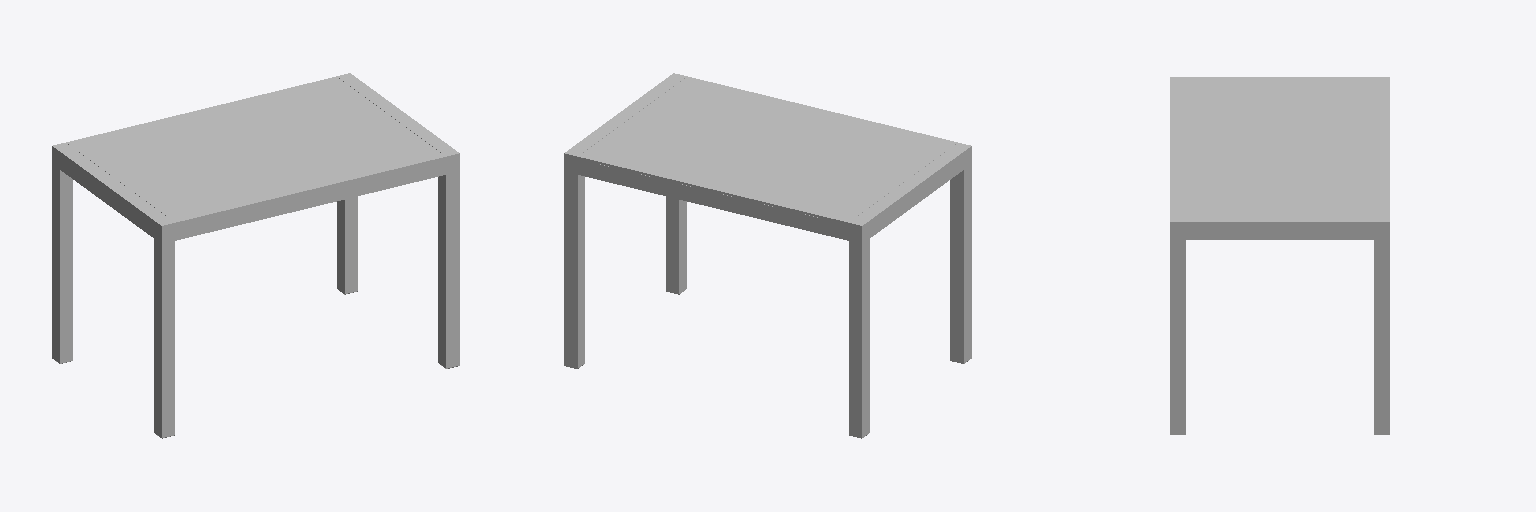
File: white_kitchen_table_alone.obj
The picture shows the model from 3 angles: view 1: azimuth 30°, elevation 25°; view 2: azimuth 150°, elevation 25°; view 3: azimuth 270°, elevation 25°; orthographic projection.
Parts seen in each view (by area): view 1: glass_table.001_Cube.007, table_legs.001_Cube.008; view 2: glass_table.001_Cube.007, table_legs.001_Cube.008; view 3: glass_table.001_Cube.007, table_legs.001_Cube.008.
Part boxes in pixels (x1,y1,x2,y2): glass_table.001_Cube.007: (66, 76, 445, 224); table_legs.001_Cube.008: (52, 73, 459, 438); glass_table.001_Cube.007: (578, 76, 957, 224); table_legs.001_Cube.008: (564, 73, 971, 438); glass_table.001_Cube.007: (1170, 83, 1389, 215); table_legs.001_Cube.008: (1170, 77, 1389, 434).
Size of the model in its own units: 110 by 75.04 by 70.06.